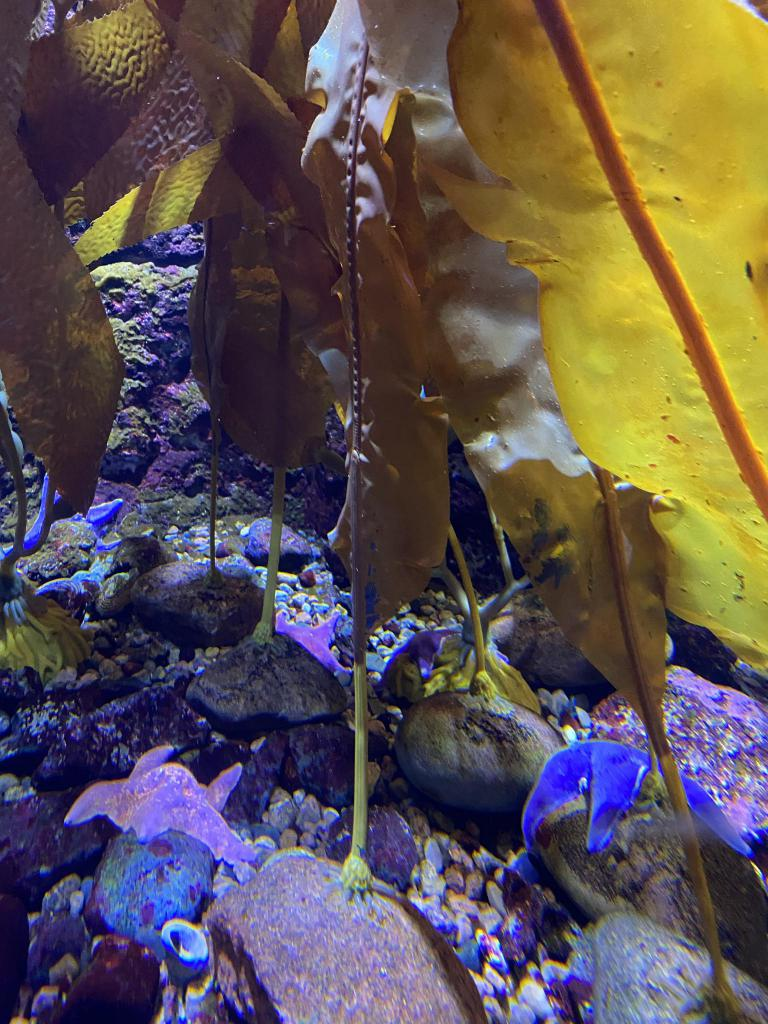starfish: (521, 740, 745, 854), (67, 747, 254, 865), (276, 609, 348, 673), (384, 628, 458, 676)
